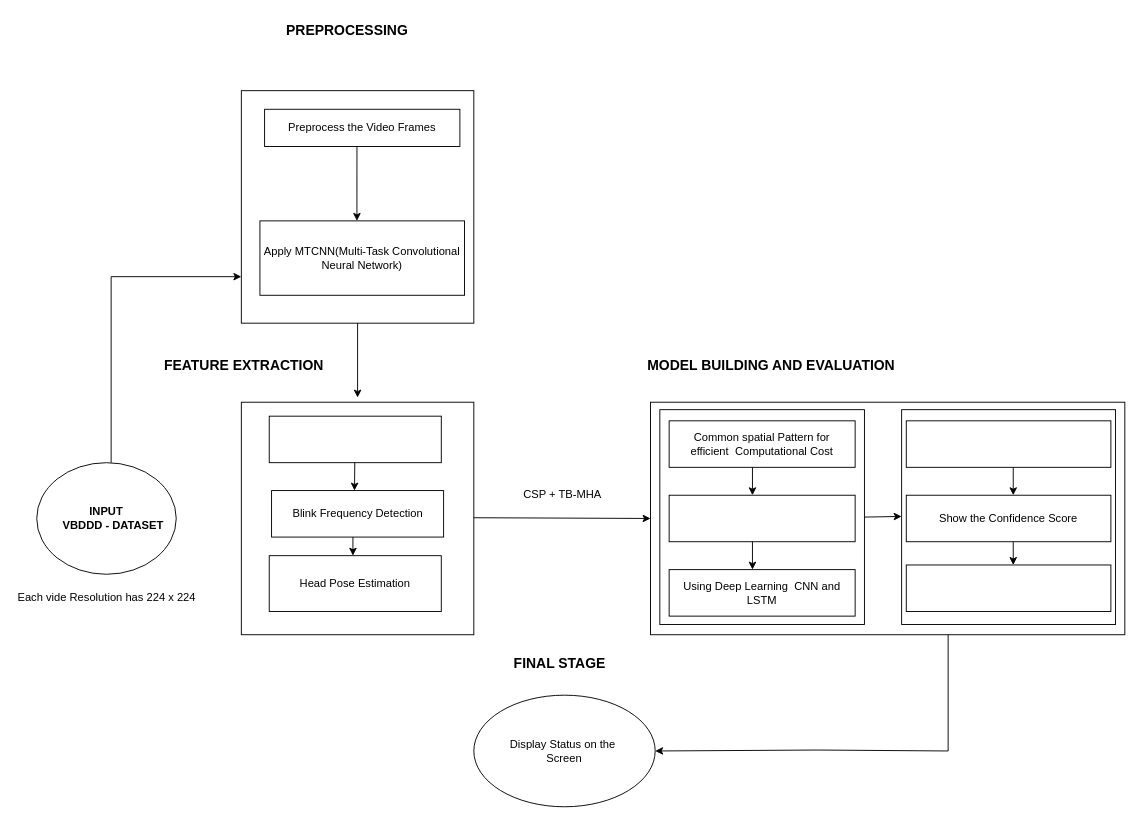
Image size: 1141x823. Some labels were removed from this diagram. The centre of each missing label's shape, as x and y in pixels:
"EAR(Eye Aspect Ratio)" goes at (x=354, y=439).
"Test on real Video and Process it frame by frame for Drowsy and Non-Drowsy" goes at (x=1008, y=587).
"Test the Model for Given Images and Videos" goes at (x=1008, y=443).
"Using TB-MHA(Multi-Head Attention) for prioritizes Important Regions" goes at (x=761, y=518).
